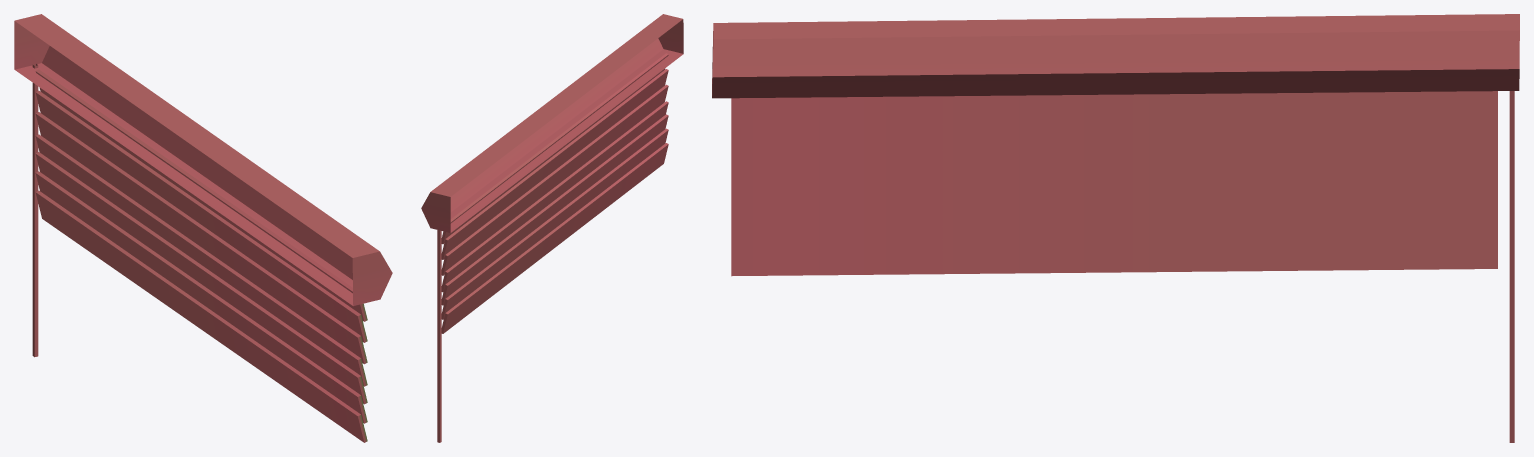
File: Bedroom3_Cornice.fbx
3 renders of one model, left to right at view 1: azimuth 30°, elevation 25°; view 2: azimuth 150°, elevation 25°; view 3: azimuth 270°, elevation 25°, orthographic. The views are drawn at different scales.
Parts seen in each view (by area): view 1: Bedroom3_Cornice; view 2: Bedroom3_Cornice; view 3: Bedroom3_Cornice.
Part boxes in pixels (bbox=[...]): Bedroom3_Cornice: bbox=[14, 14, 392, 442]; Bedroom3_Cornice: bbox=[421, 14, 683, 442]; Bedroom3_Cornice: bbox=[712, 14, 1519, 442].
Bounding box in the file's own units: 18.22 × 113 × 199.
